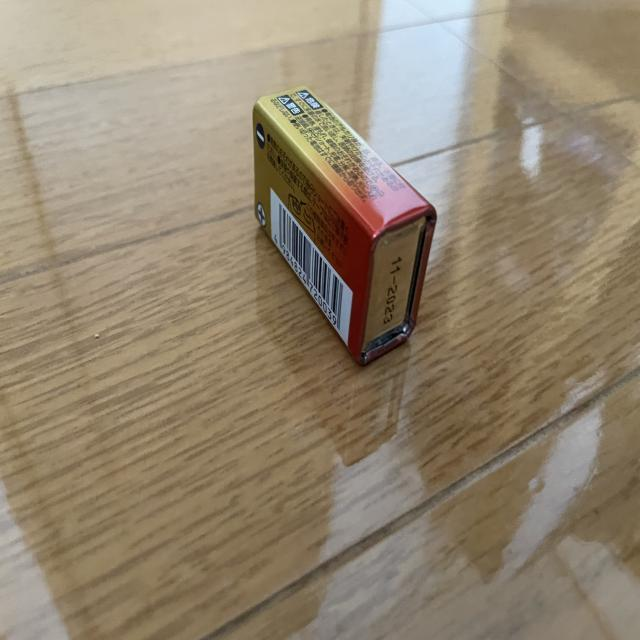9V: (250, 84, 438, 367)
